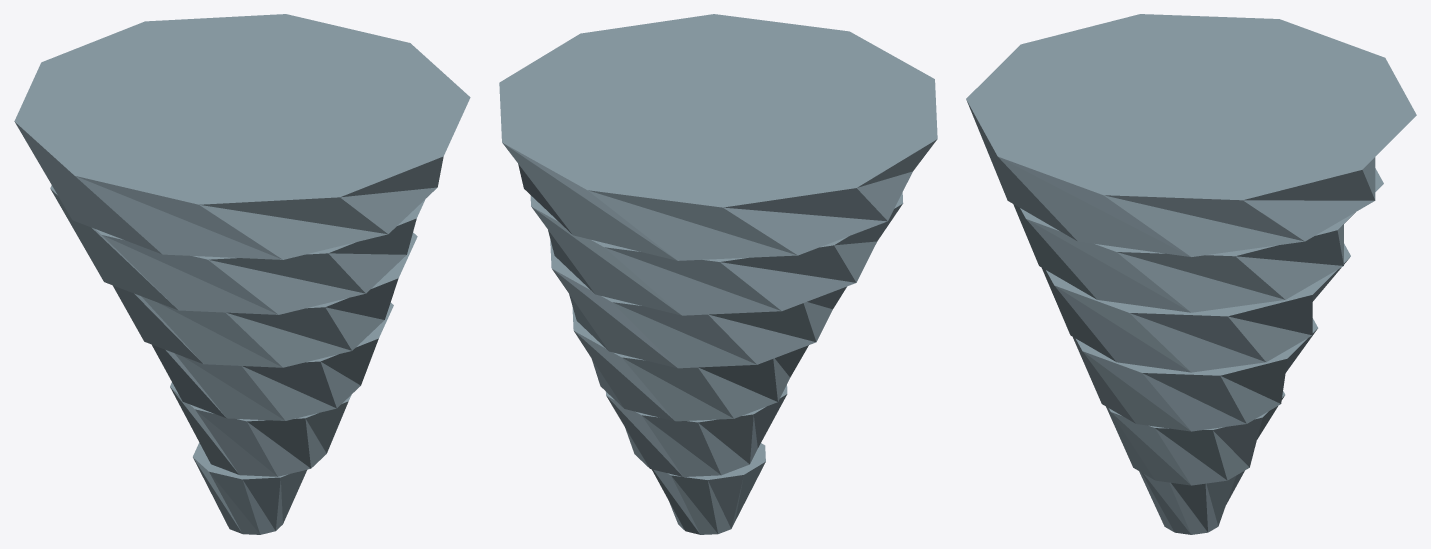
The model's file is tornado.glb.
3 views of the same model, side by side, from view 1: azimuth 30°, elevation 25°; view 2: azimuth 150°, elevation 25°; view 3: azimuth 270°, elevation 25° (orthographic).
Parts seen in each view (by area): view 1: tornado; view 2: tornado; view 3: tornado.
Part boxes in pixels (left/top/right/bottom): tornado: left=14, top=14, right=470, bottom=534; tornado: left=499, top=14, right=937, bottom=534; tornado: left=966, top=14, right=1416, bottom=534.
Size of the model in its own units: 0.935 by 0.96 by 0.9565.
